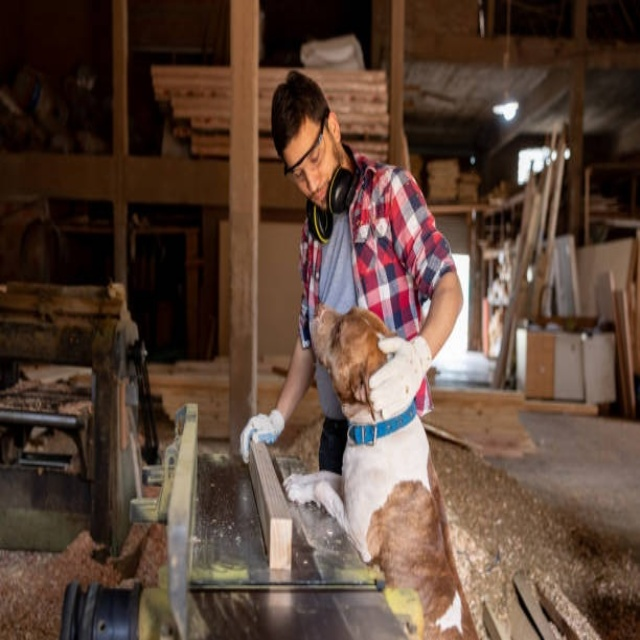Gafas: (282, 109, 327, 178)
Guantes: (367, 335, 432, 422), (239, 409, 285, 464)
Sin_mascara: (306, 180, 328, 208)
